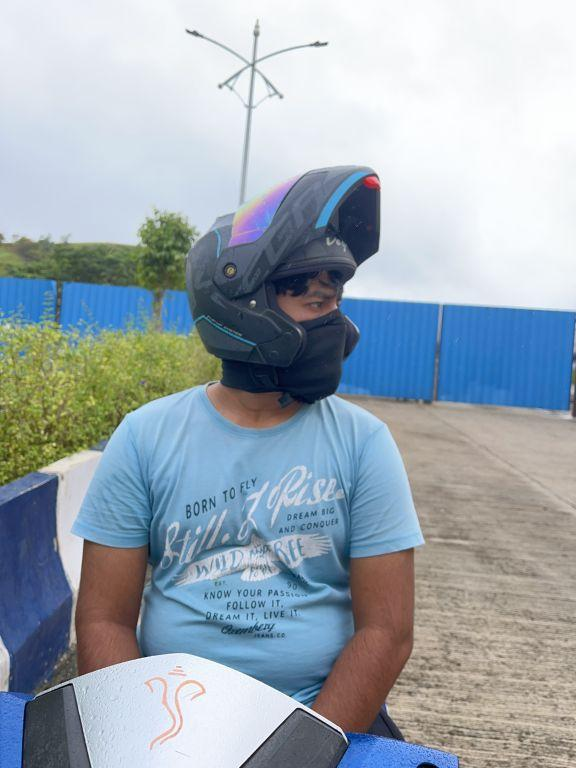helmet: (175, 154, 392, 402)
